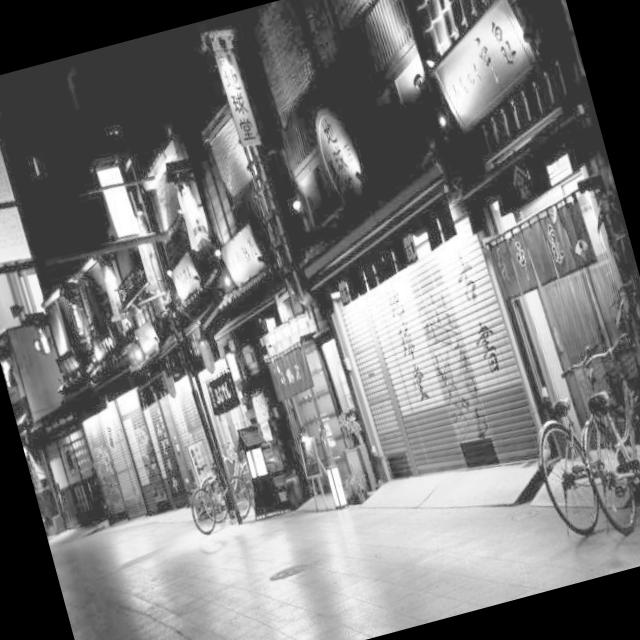Bicycle: (510, 384, 618, 569), (551, 324, 640, 544), (156, 437, 280, 549)
